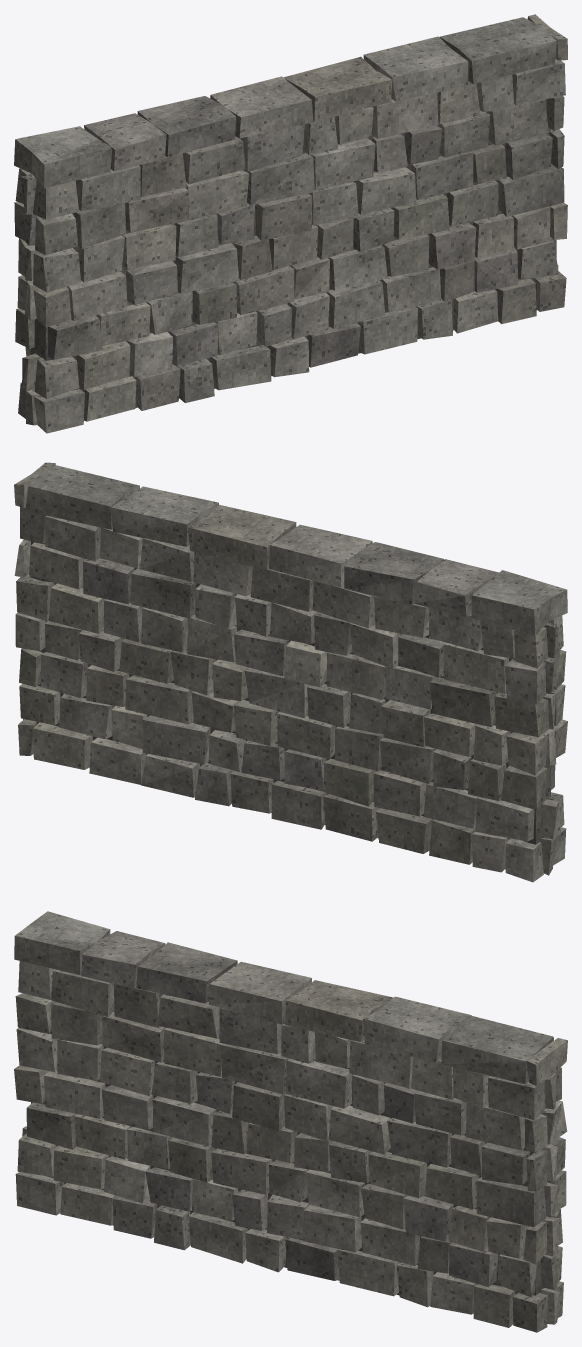
File: parede_pedra_g.glb
3 views of the same model, one above another, from view 1: azimuth 30°, elevation 25°; view 2: azimuth 150°, elevation 25°; view 3: azimuth 330°, elevation 25° (orthographic).
Parts seen in each view (by area): view 1: parede_pedra_g_pedra; view 2: parede_pedra_g_pedra; view 3: parede_pedra_g_pedra.
Boxes of the visible parts, x1,y1,x2,y2 form: parede_pedra_g_pedra: [14, 14, 567, 433]; parede_pedra_g_pedra: [14, 462, 567, 882]; parede_pedra_g_pedra: [14, 911, 567, 1332].
Bounding box in the file's own units: 6.13 × 3.02 × 0.6601.
1 material, 1 textured.
